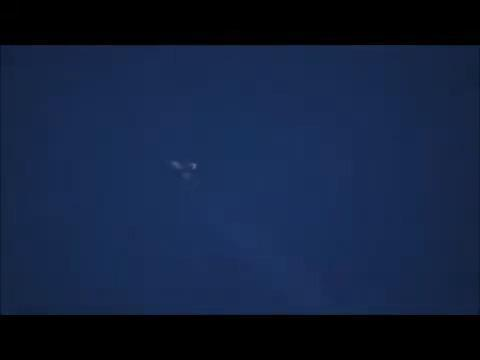Plane: (151, 149, 218, 196)
